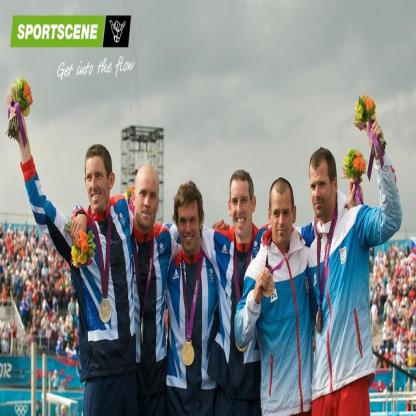face: (137, 172, 160, 229), (231, 180, 252, 237), (86, 159, 109, 211), (310, 168, 333, 218), (272, 194, 293, 244), (179, 205, 200, 253)
